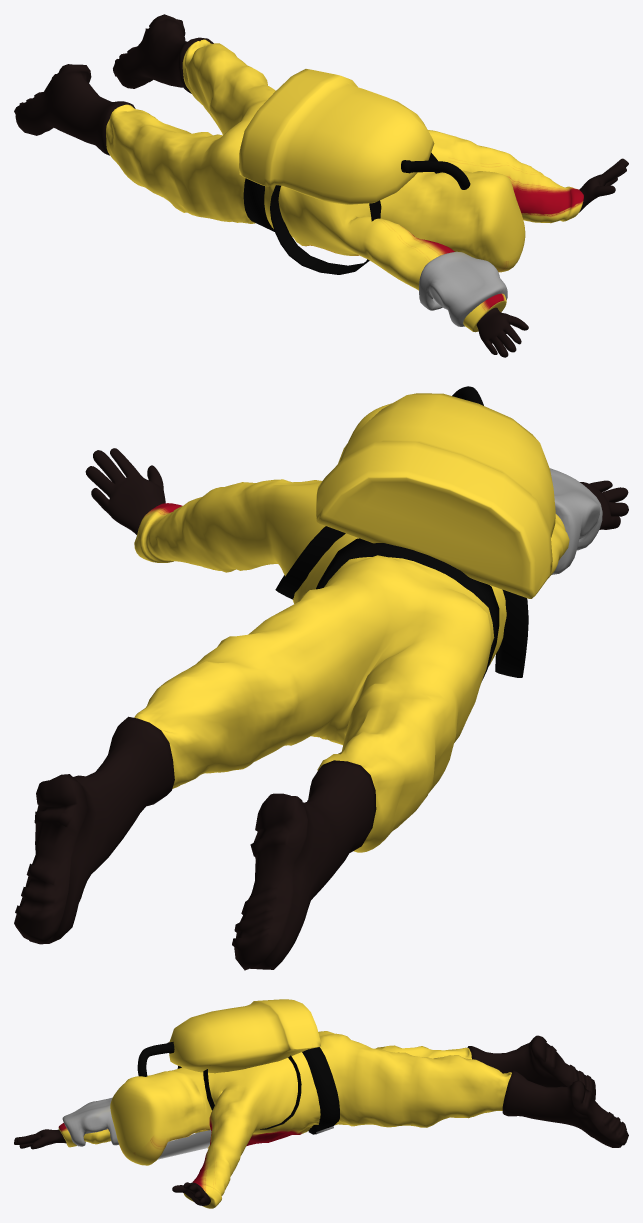
File: deadscientistvar4.fbx
3 renders of one model, top to bottom at view 1: azimuth 30°, elevation 25°; view 2: azimuth 150°, elevation 25°; view 3: azimuth 270°, elevation 25°, orthographic. The views are drawn at different scales.
Visible parts, largest first — view 1: mesh; view 2: mesh; view 3: mesh.
Boxes of the visible parts, box(x1,y1,x2,y2) form: mesh: box(14, 14, 628, 357); mesh: box(14, 386, 628, 970); mesh: box(14, 999, 628, 1208).
Size of the model in its own units: 2.88 by 0.7185 by 1.59.
